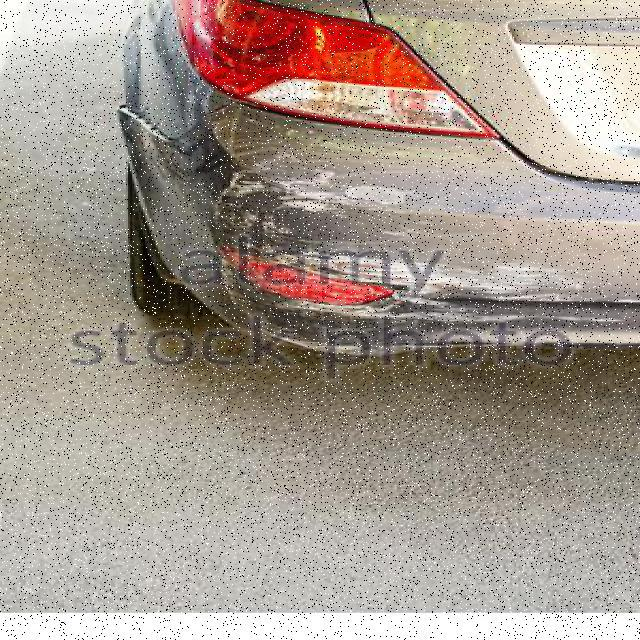rear-bumper-dent: (98, 109, 638, 352)
